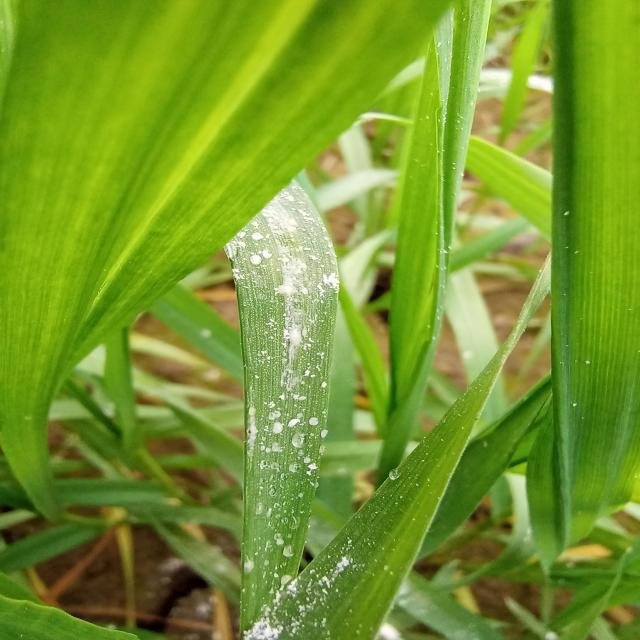Powdery Mildew: (225, 189, 359, 640)
